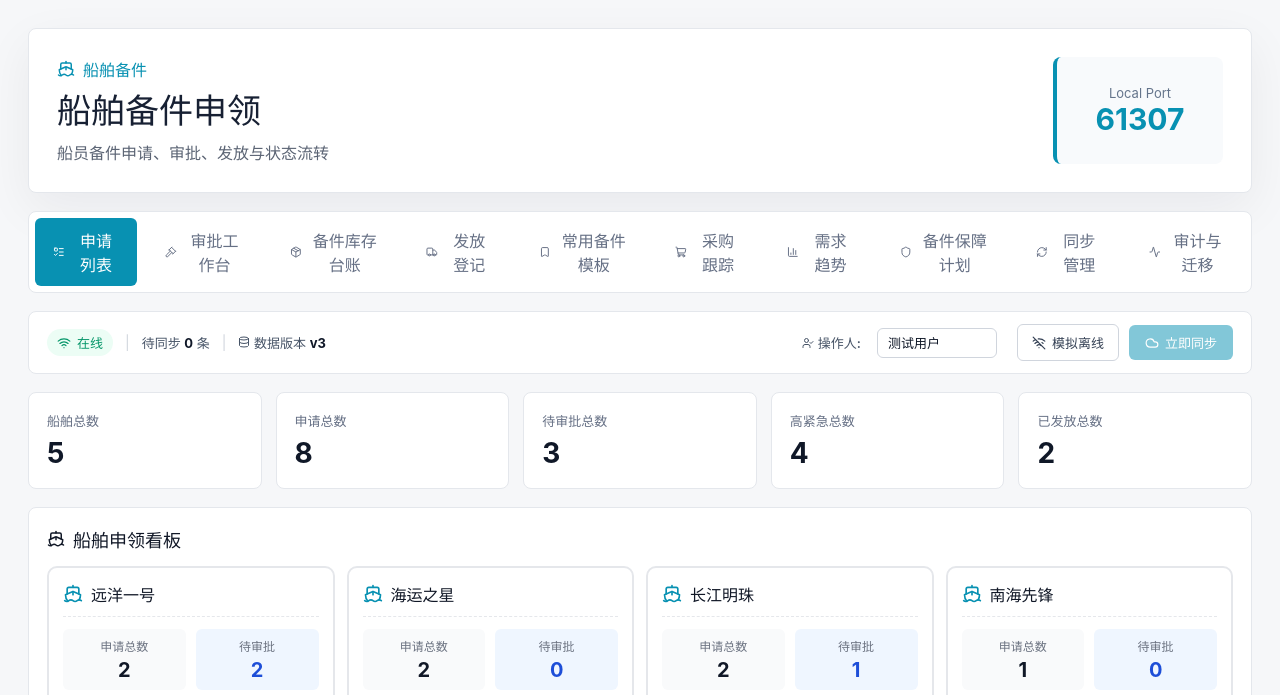
Test: App 冒烟测试 › 点击审批工作台标签应切换到审批页面
Click the button "审批工作台": (204, 252) left=147, top=218, right=262, bottom=286
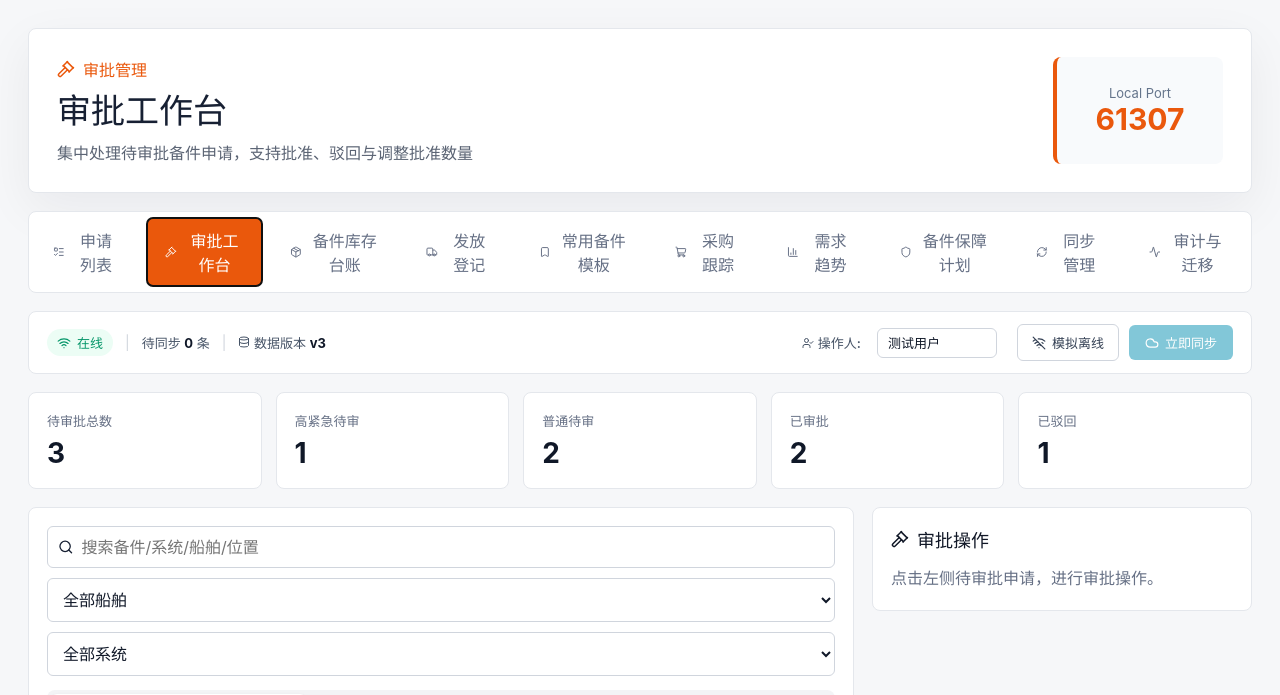
Expected: the heading "审批工作台" is shown, left=57, top=90, right=227, bottom=131
